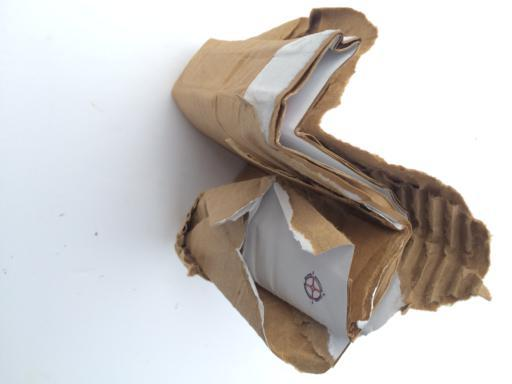cardboard: (172, 7, 493, 375)
